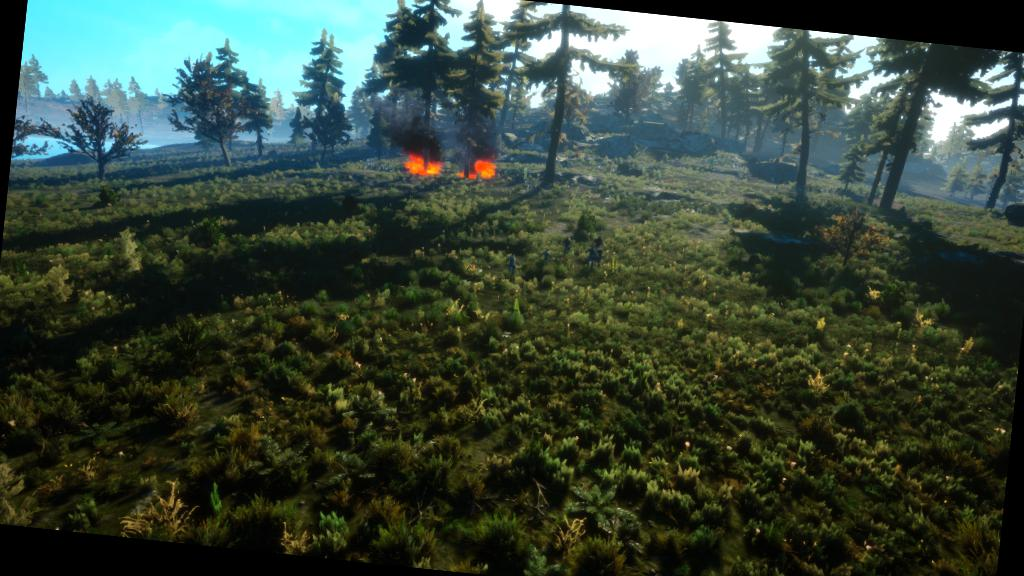Fire: (397, 144, 446, 182), (456, 153, 500, 182)
human: (534, 230, 581, 274), (582, 226, 613, 276), (498, 242, 531, 282)
smoke: (388, 119, 448, 150), (460, 122, 505, 156)
